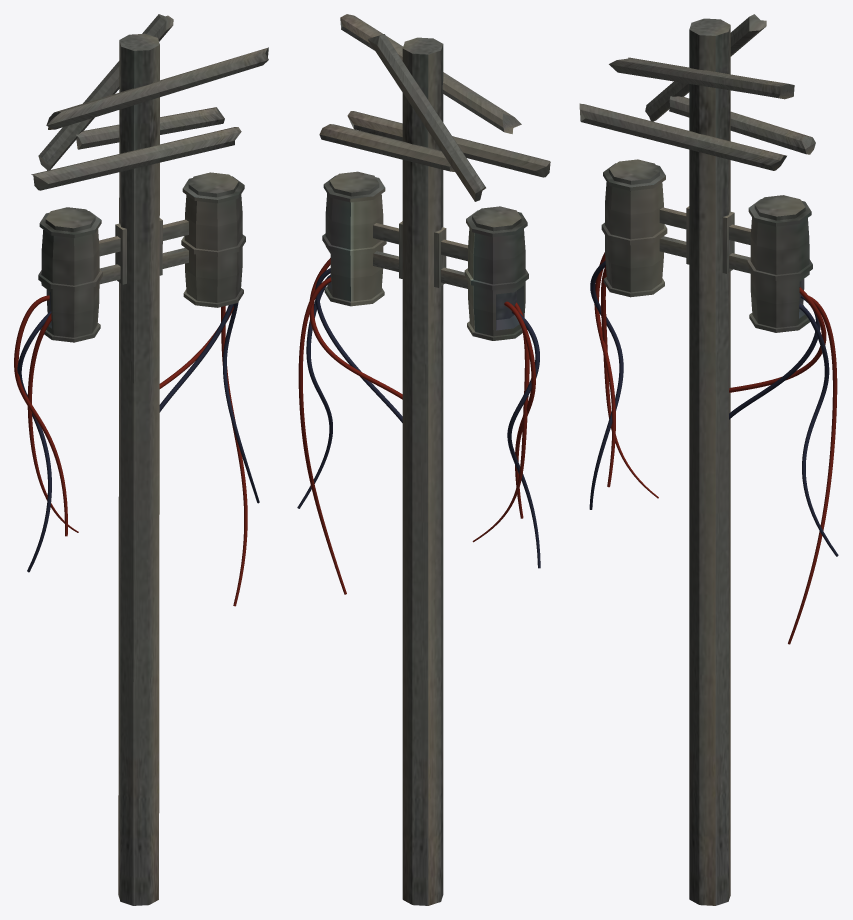
File: UtilityPoleTest2.fbx
3 views of the same model, side by side, from view 1: azimuth 30°, elevation 25°; view 2: azimuth 150°, elevation 25°; view 3: azimuth 330°, elevation 25° (orthographic). The views are drawn at different scales.
Visible parts, largest first — view 1: Cylinder.020, Cylinder.024, Cylinder.025, Cylinder.023, Cylinder.026, Cylinder.027, NurbsPath.011, NurbsPath.012, NurbsPath.008, NurbsPath.010, NurbsPath.009, Cube.006 (+3 smaller); view 2: Cylinder.020, Cylinder.024, Cylinder.026, Cylinder.025, Cylinder.023, Cylinder.027, NurbsPath.008, NurbsPath.012, NurbsPath.009, NurbsPath.011, NurbsPath.010, Cube.006 (+4 smaller); view 3: Cylinder.020, Cylinder.024, Cylinder.025, Cylinder.023, Cylinder.027, NurbsPath.008, Cylinder.026, NurbsPath.009, NurbsPath.012, NurbsPath.011, NurbsPath.010, Cube.006 (+4 smaller).
Part boxes in pixels (box(x1,y1,x2,y2)): Cylinder.020: box(118, 33, 159, 905); Cylinder.024: box(38, 172, 245, 342); Cylinder.025: box(31, 127, 241, 190); Cylinder.023: box(46, 47, 268, 129); Cylinder.026: box(38, 14, 173, 170); Cylinder.027: box(76, 107, 224, 149); NurbsPath.011: box(14, 295, 67, 536); NurbsPath.012: box(17, 311, 51, 572); NurbsPath.008: box(221, 306, 247, 606); NurbsPath.010: box(27, 313, 78, 532); NurbsPath.009: box(223, 302, 259, 503); Cube.006: box(99, 219, 188, 256); Cylinder.020: box(402, 37, 443, 905); Cylinder.024: box(322, 171, 528, 340); Cylinder.026: box(367, 34, 485, 201); Cylinder.025: box(347, 111, 550, 177); Cylinder.023: box(340, 14, 521, 134); Cylinder.027: box(319, 124, 454, 171); NurbsPath.008: box(298, 277, 346, 594); NurbsPath.012: box(507, 311, 540, 568); NurbsPath.009: box(297, 274, 332, 508); NurbsPath.011: box(504, 301, 535, 518); NurbsPath.010: box(472, 302, 529, 542); Cube.006: box(373, 223, 467, 261); Cylinder.020: box(689, 18, 730, 905); Cylinder.024: box(601, 159, 812, 332); Cylinder.025: box(579, 103, 786, 170); Cylinder.023: box(609, 57, 794, 99); Cylinder.027: box(669, 96, 815, 154); NurbsPath.008: box(788, 296, 837, 644); Cylinder.026: box(645, 14, 766, 121); NurbsPath.009: box(799, 304, 838, 556); NurbsPath.012: box(589, 261, 623, 509); NurbsPath.011: box(594, 252, 615, 487); NurbsPath.010: box(601, 265, 658, 498); Cube.006: box(659, 207, 750, 244).
Bounding box in the file's own units: 288 × 985 × 110.
4 materials, 2 textured.
